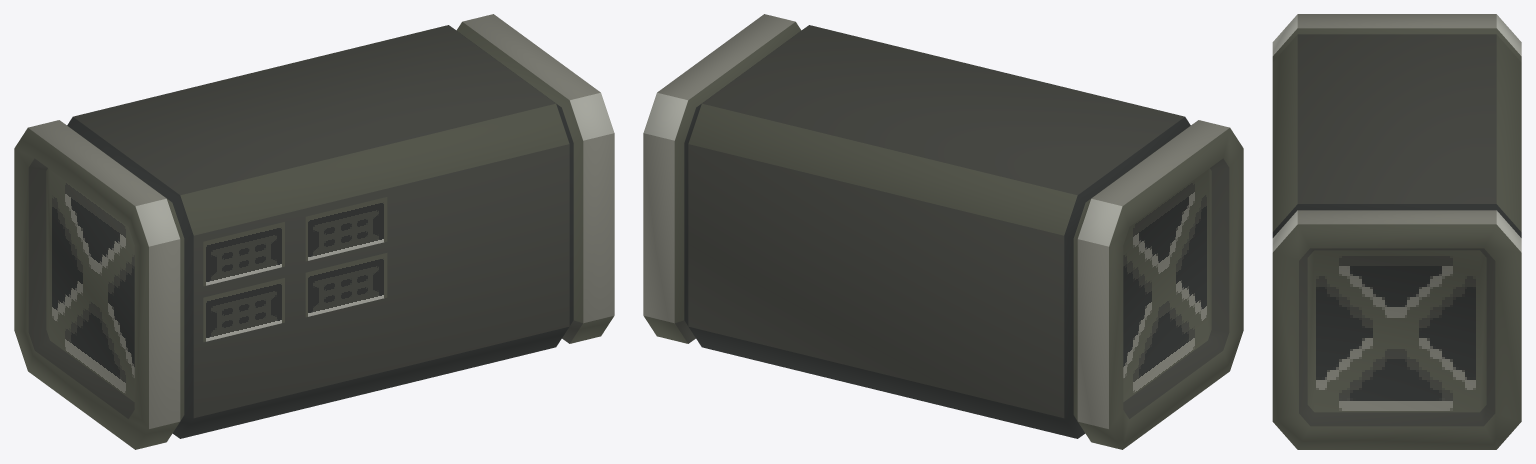
The model's file is power-supply.glb.
3 renders of one model, left to right at view 1: azimuth 30°, elevation 25°; view 2: azimuth 150°, elevation 25°; view 3: azimuth 270°, elevation 25°, orthographic. The views are drawn at different scales.
Parts seen in each view (by area): view 1: Plane.031, Plane.032; view 2: Plane.031; view 3: Plane.031.
Part boxes in pixels (x1,y1,x2,y2): Plane.031: [14, 14, 614, 449]; Plane.032: [203, 197, 387, 342]; Plane.031: [643, 14, 1243, 449]; Plane.031: [1272, 14, 1521, 449].
Size of the model in its own units: 0.396 by 0.198 by 0.1982.
1 material, 1 textured.
